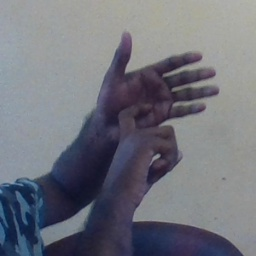R: (89, 28, 226, 187)
